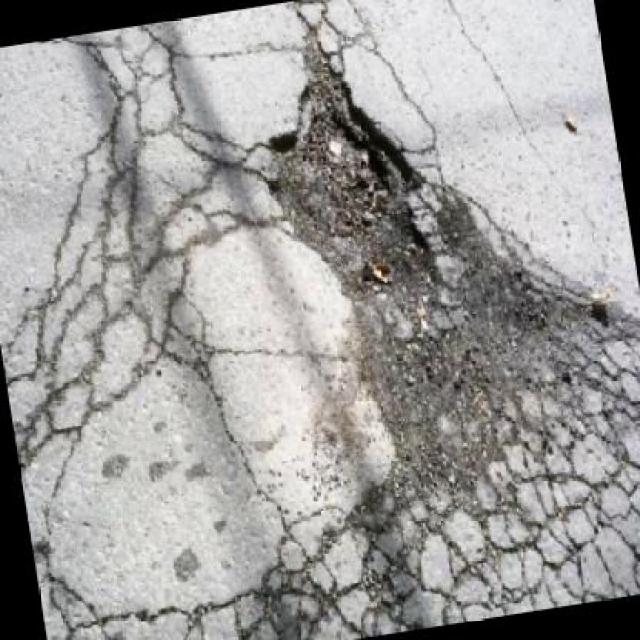pothole1: (240, 11, 448, 317)
